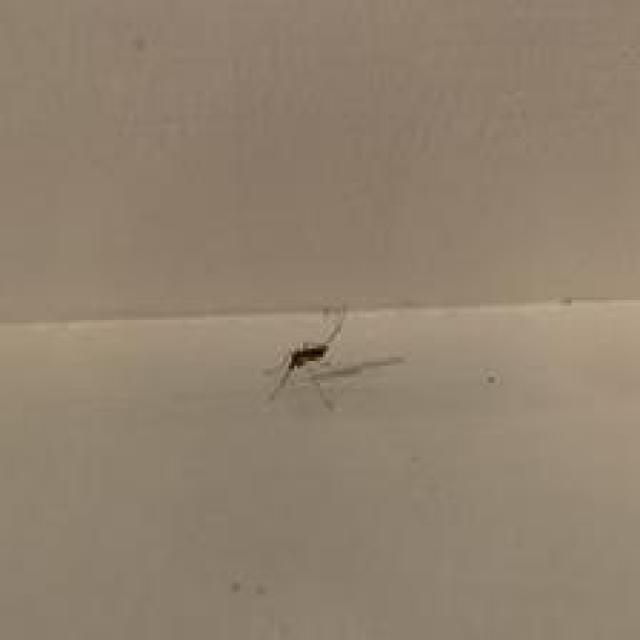Culex: (264, 303, 350, 411)
